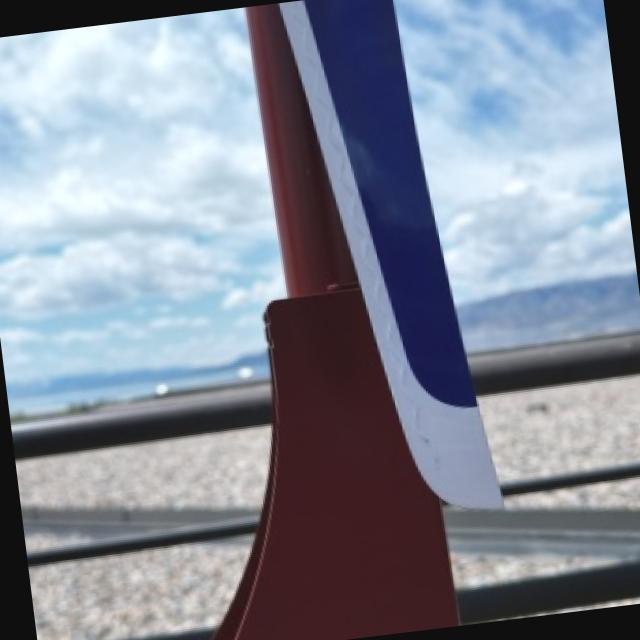healthy: (209, 0, 497, 640), (28, 534, 248, 640)
